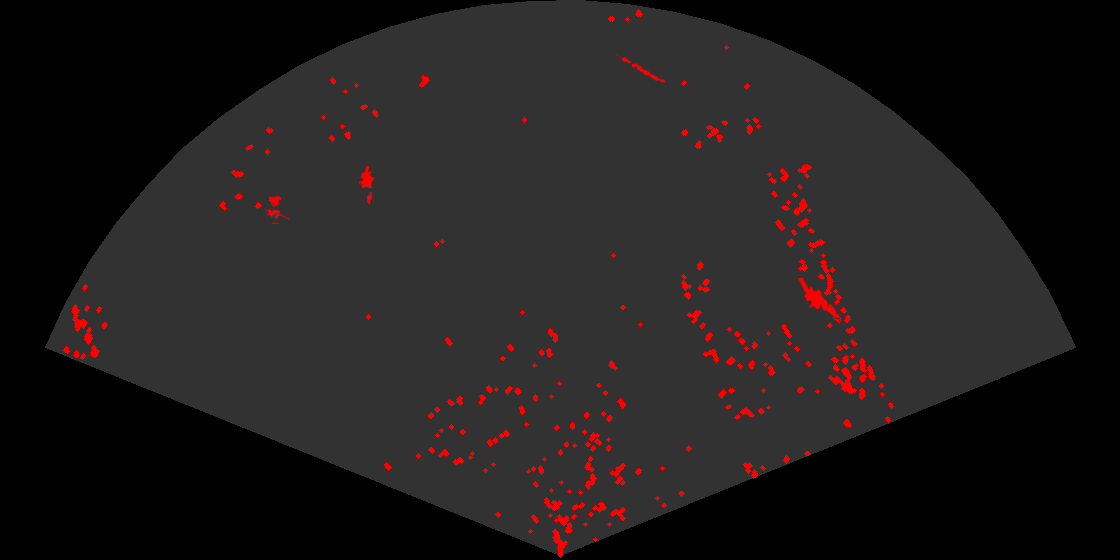cage: (264, 194, 290, 224)
chain: (616, 53, 667, 84)
frogman: (797, 278, 842, 326), (357, 166, 376, 205)
